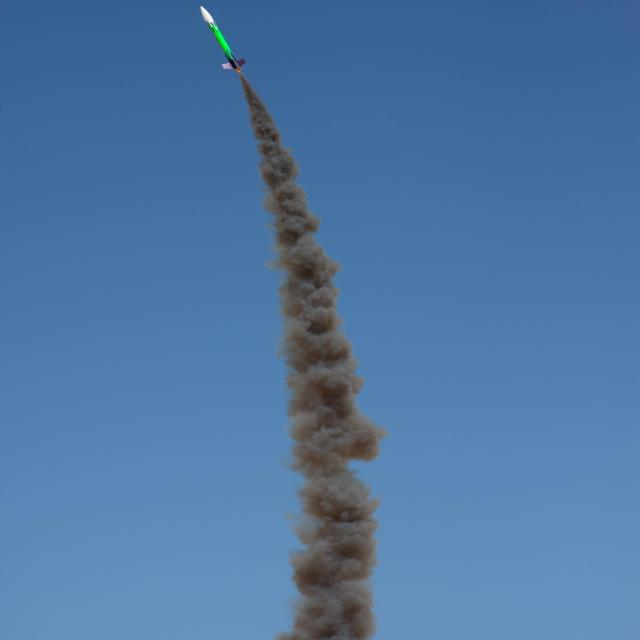Rocket: (200, 5, 247, 72)
